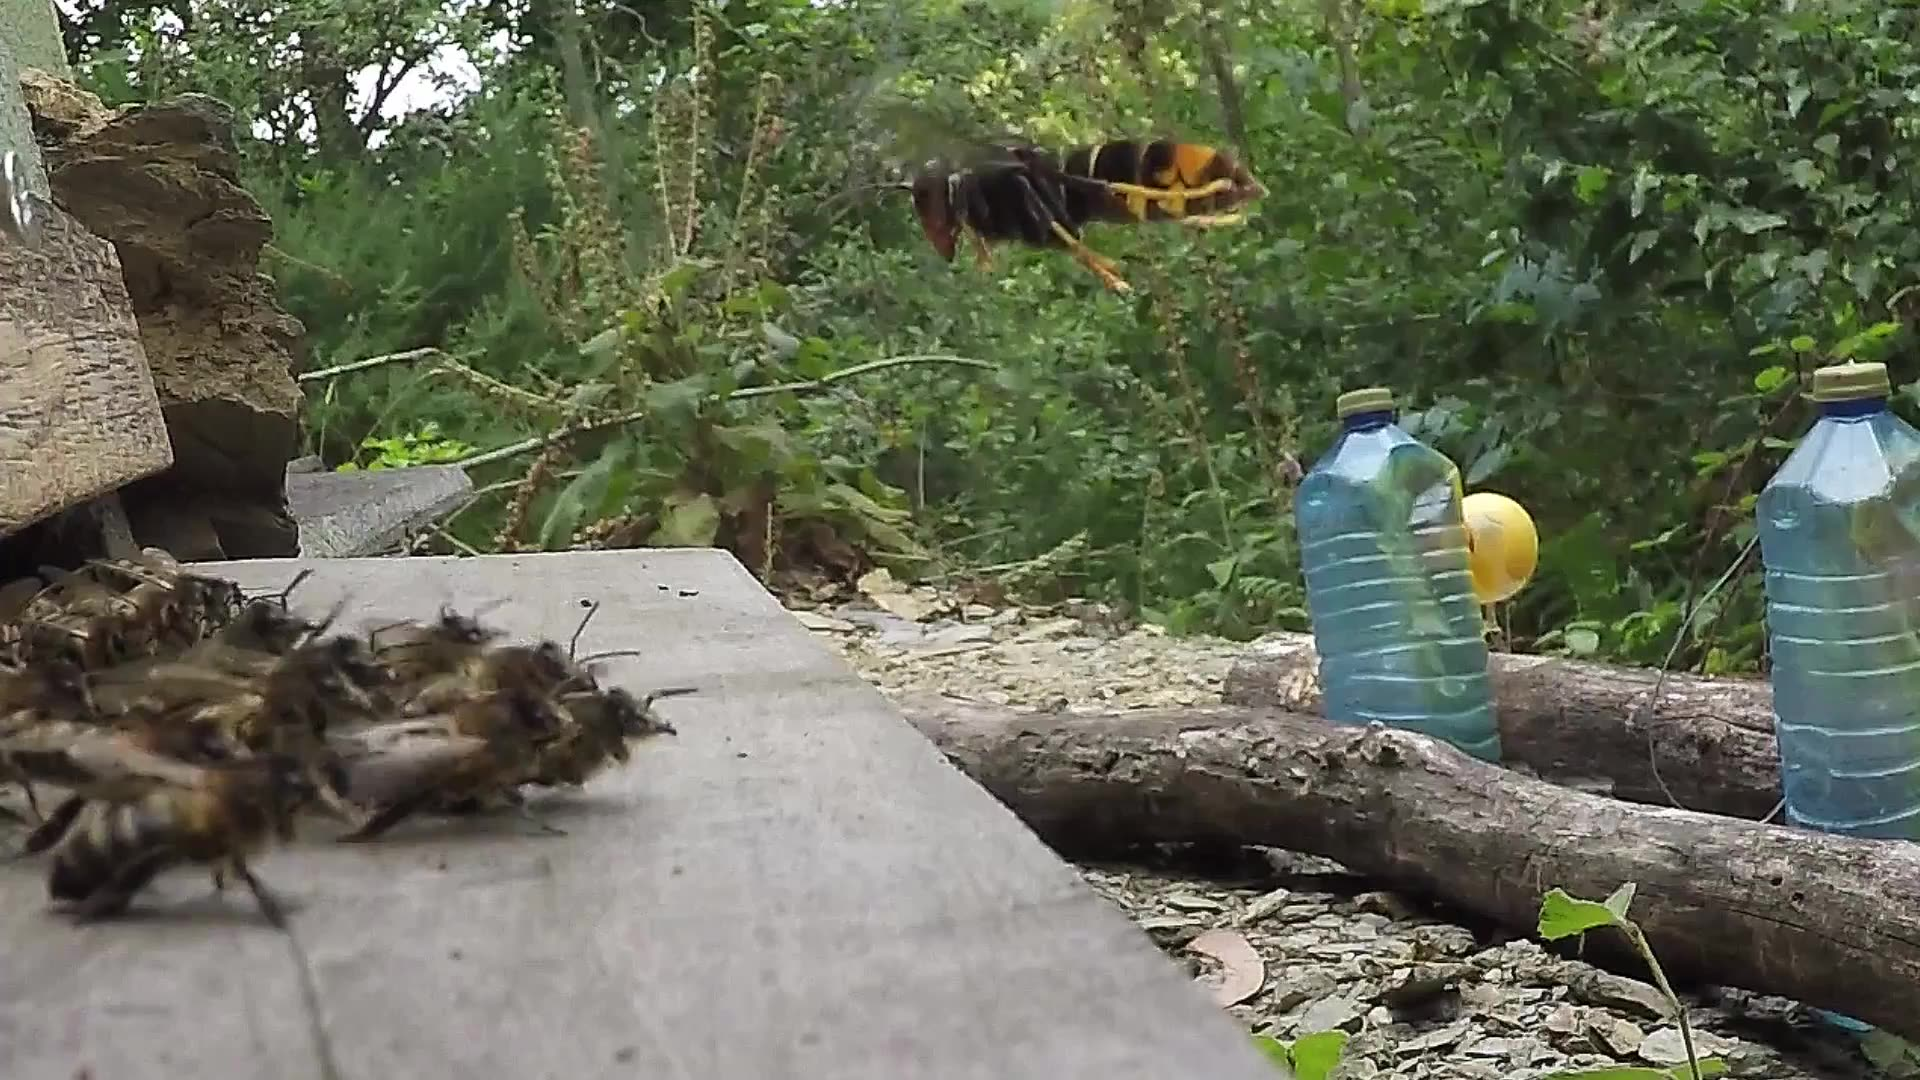bee: (298, 593, 680, 841), (15, 705, 287, 924), (11, 526, 291, 704)
hornet: (905, 112, 1273, 284)
